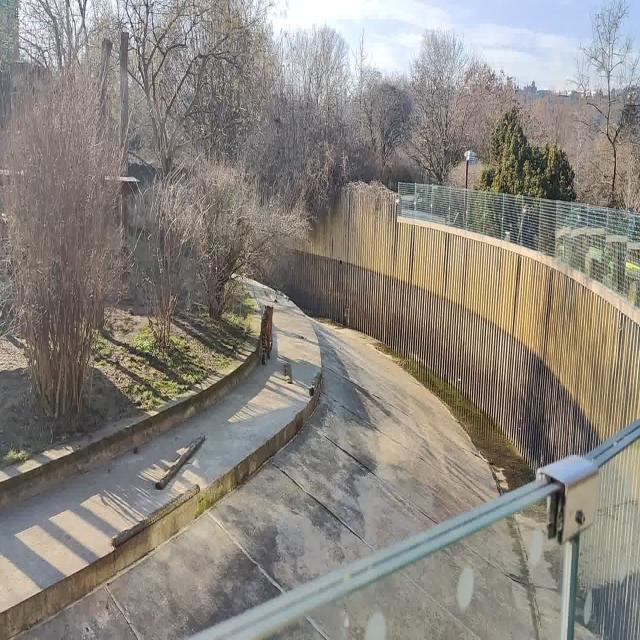tiger: (262, 304, 274, 365)
